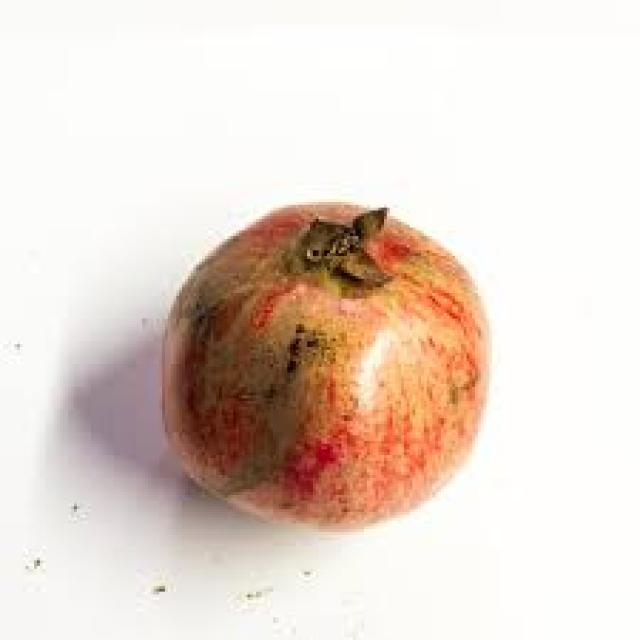Pomegranate: (168, 219, 466, 533)
